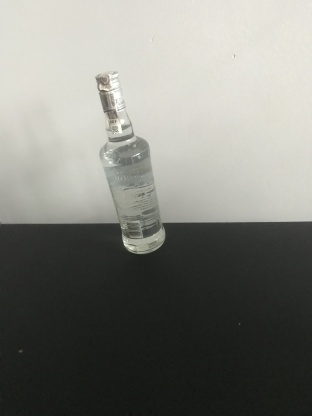nakretka: (94, 69, 127, 114)
